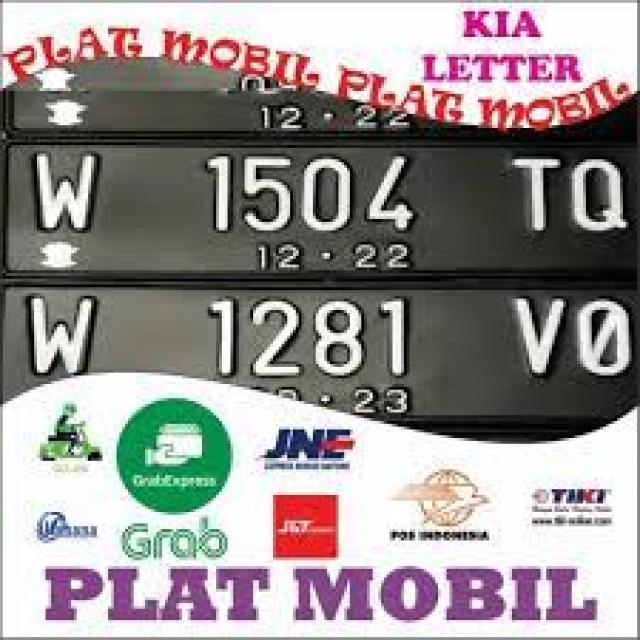lisence-plate: (0, 274, 640, 428), (5, 134, 640, 284)
